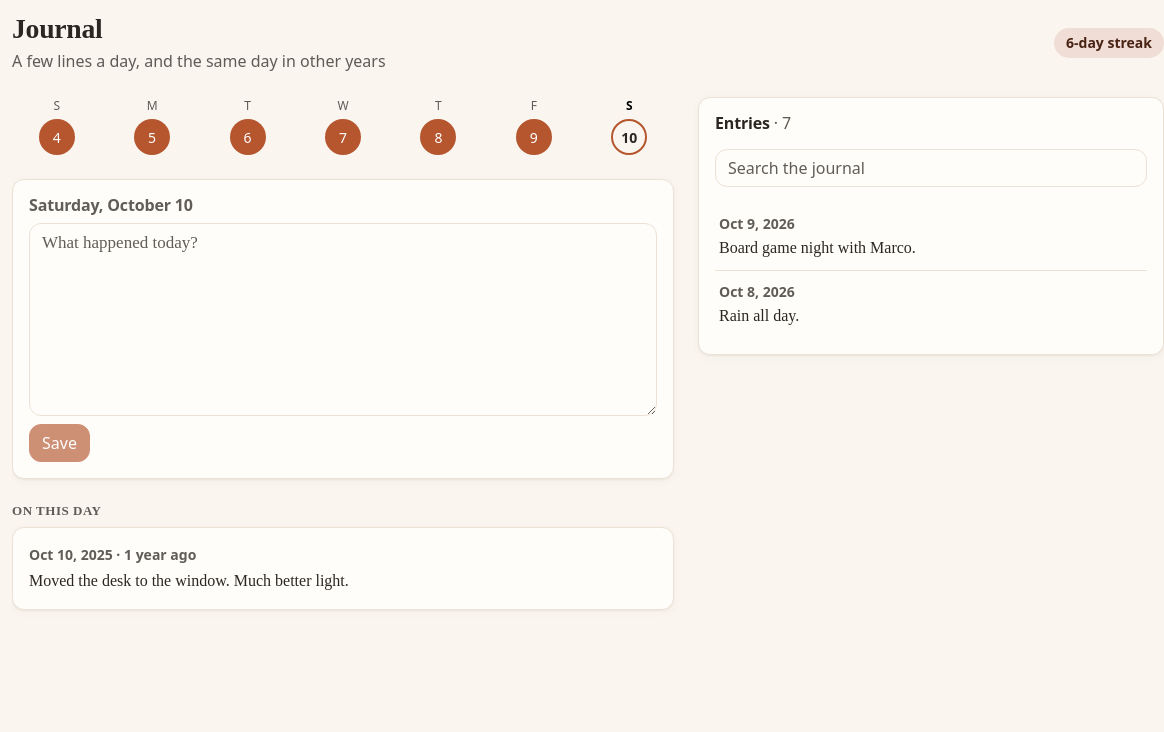
Test: JournalPageComponent › searches through the address
This screenshot has width=1164, height=732.
Type "marco" into the search field with id "journal-search" at (931, 168), box [715,149,1147,187]
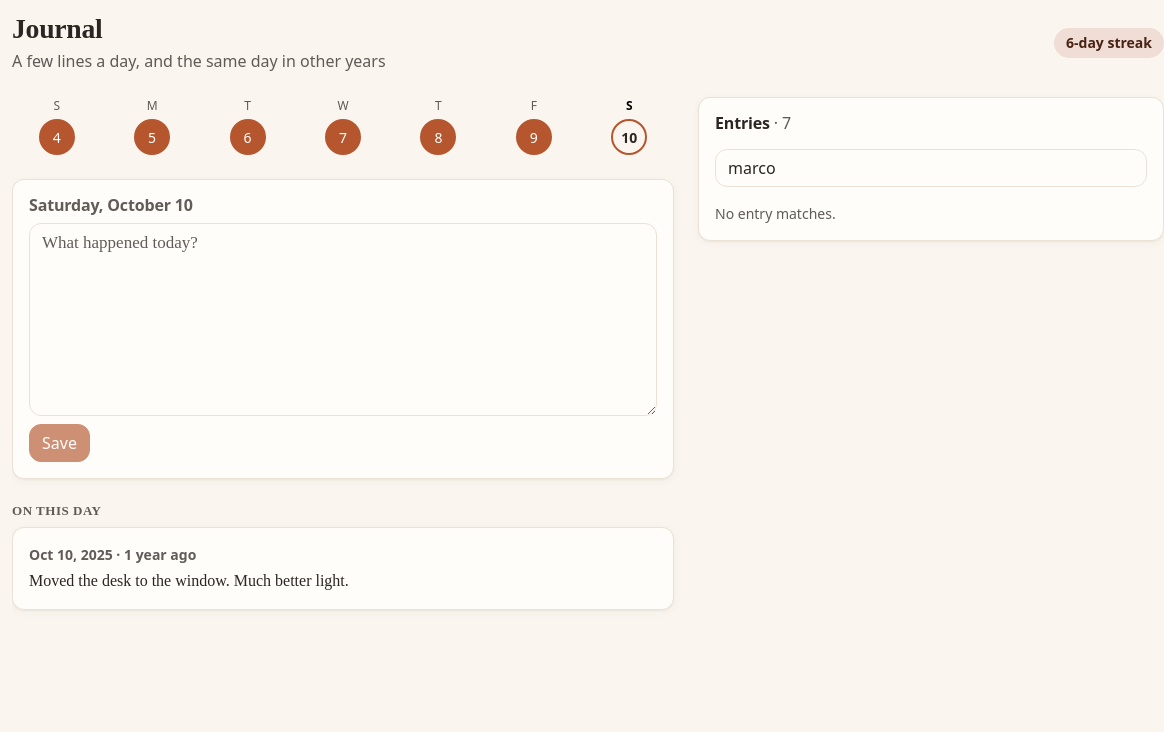
Expected: the text with test id "no-entries" reads "No entry matches.", [715,204,836,223]
